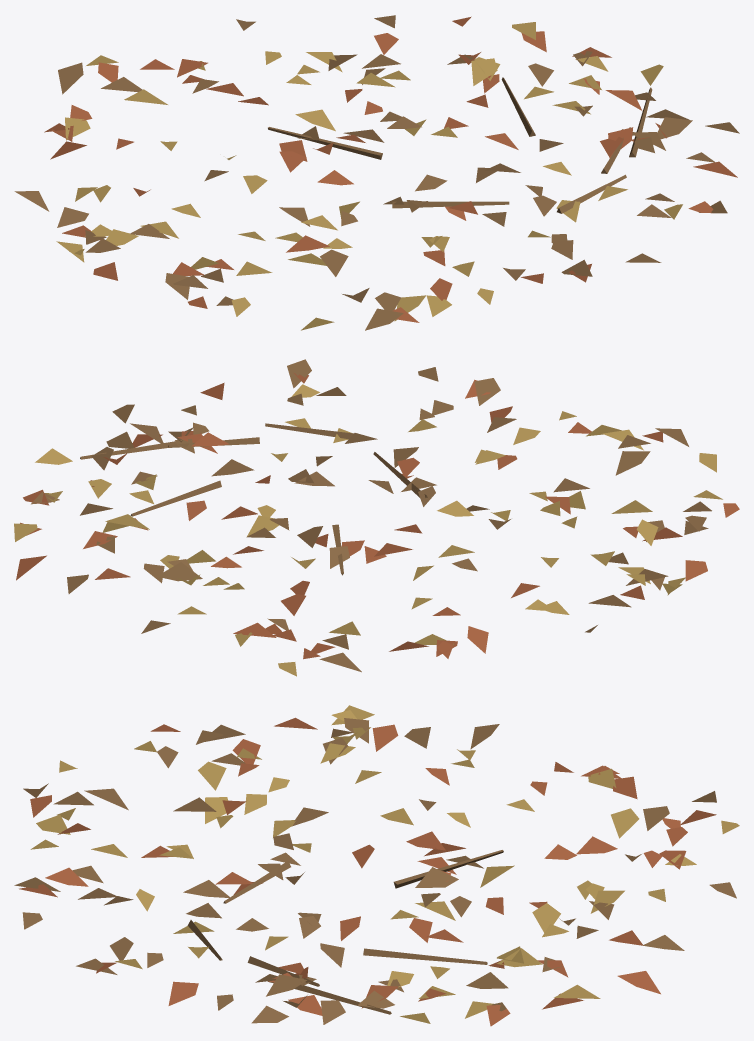
The model's file is litter-autumn.glb.
3 renders of one model, top to bottom at view 1: azimuth 30°, elevation 25°; view 2: azimuth 150°, elevation 25°; view 3: azimuth 270°, elevation 25°, orthographic. The views are drawn at different scales.
Visible parts, largest first — view 1: understory_litter-autumn_LOD0; view 2: understory_litter-autumn_LOD0; view 3: understory_litter-autumn_LOD0.
Part boxes in pixels (x1,y1,x2,y2): understory_litter-autumn_LOD0: (14,15,739,330); understory_litter-autumn_LOD0: (14,359,739,676); understory_litter-autumn_LOD0: (14,705,739,1026).
Size of the model in its own units: 3.27 by 0.1351 by 3.18.
